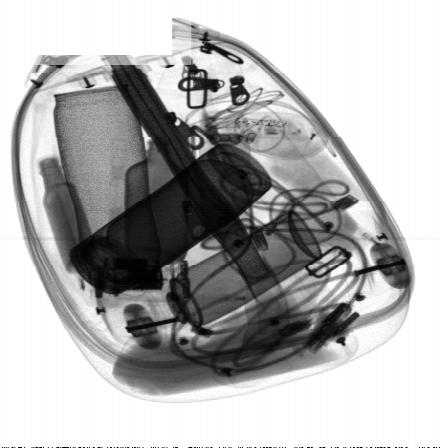Sprayer: (138, 210, 323, 344)
